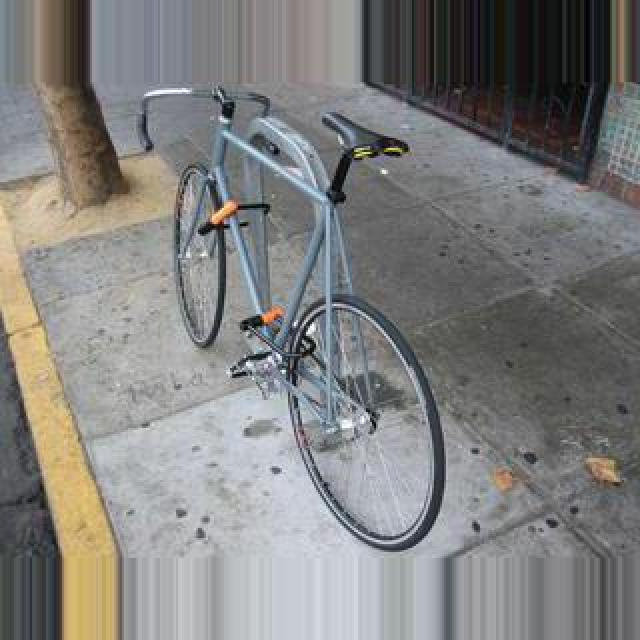Person: (165, 88, 451, 552)
